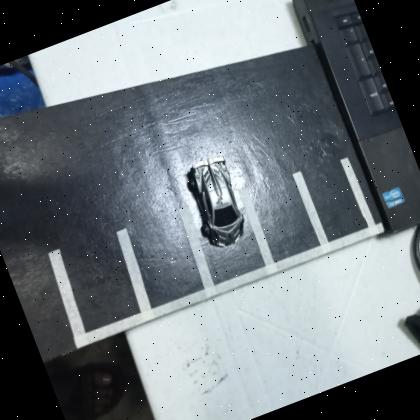Car: (186, 159, 244, 247)
